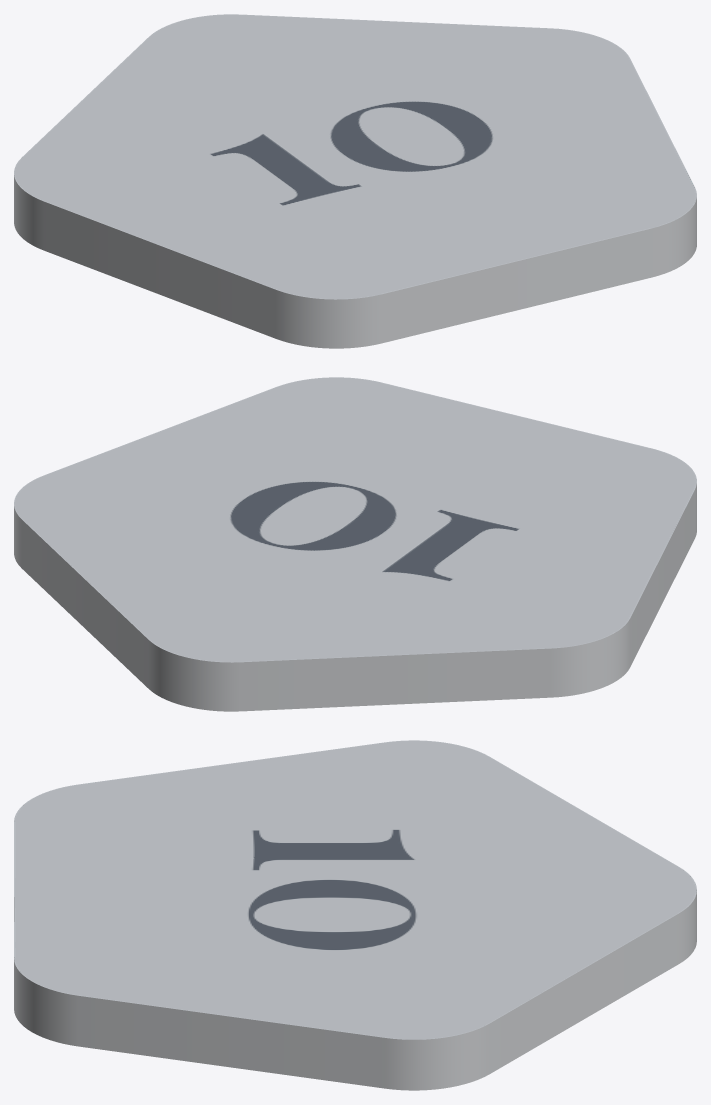
The model's file is pen_10.glb.
3 views of the same model, one above another, from view 1: azimuth 30°, elevation 25°; view 2: azimuth 150°, elevation 25°; view 3: azimuth 270°, elevation 25° (orthographic). The views are drawn at different scales.
Parts seen in each view (by area): view 1: pen_10; view 2: pen_10; view 3: pen_10.
Part boxes in pixels (x1,y1,x2,y2): pen_10: (14, 14, 696, 348); pen_10: (14, 377, 696, 711); pen_10: (14, 740, 696, 1090).
Bounding box in the file's own units: 0.0304 × 0.0024 × 0.0293.
Materials: 3 (2 with a texture image).
